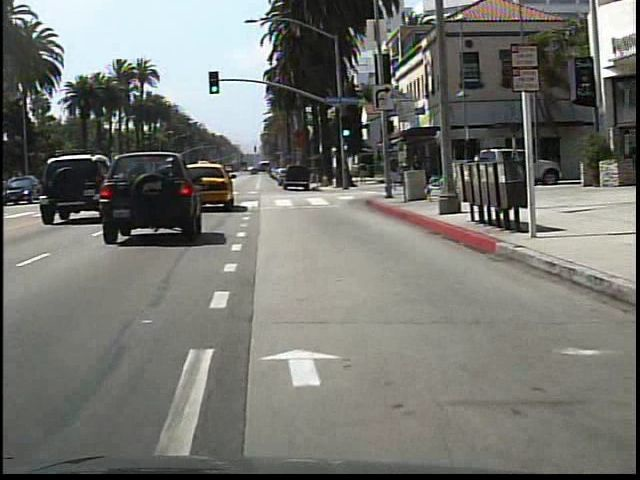person: (389, 151, 404, 194)
